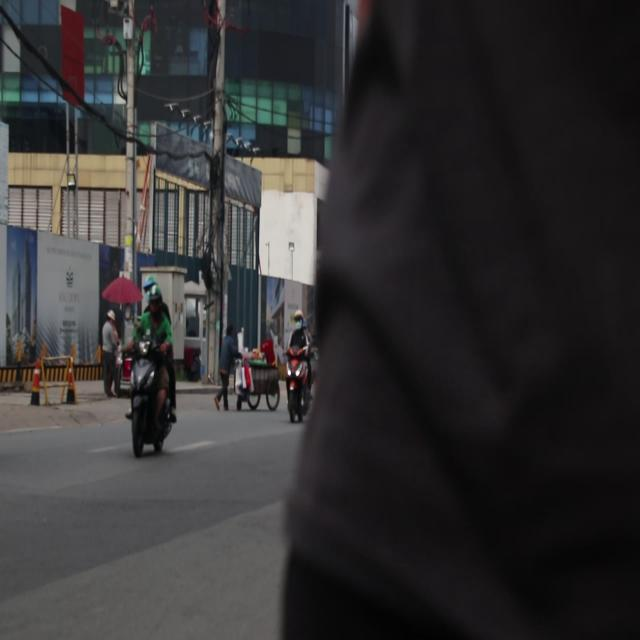motorbike: (126, 333, 178, 457), (285, 344, 307, 422)
